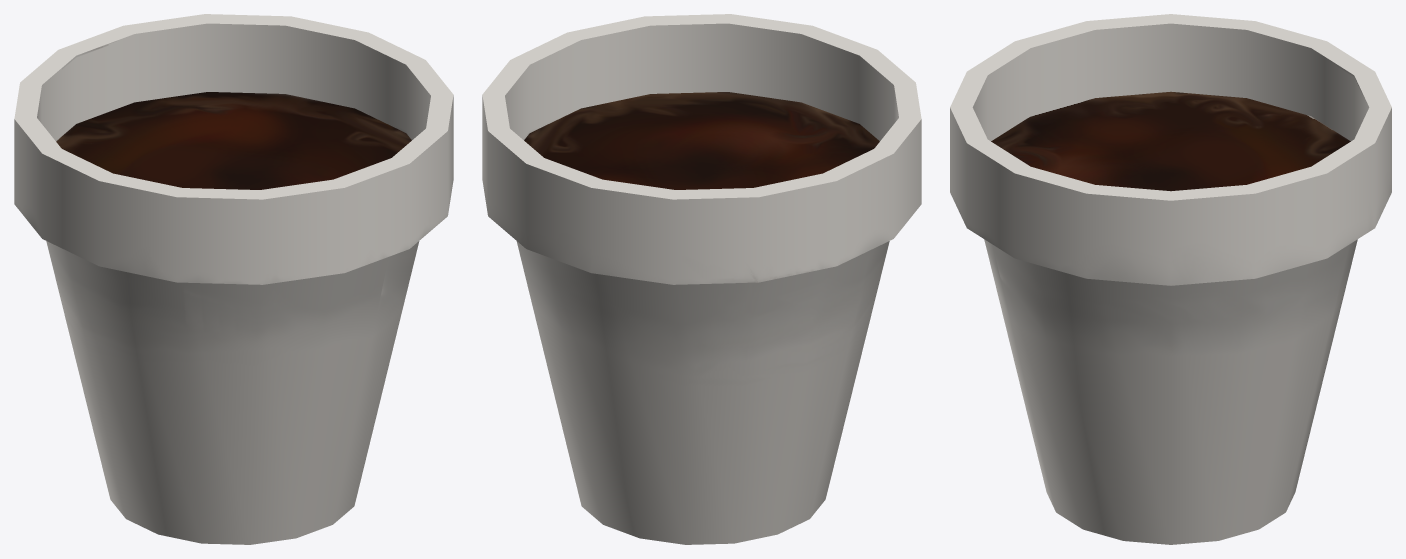
Rendered from copo cheio .fbx.
3 views of the same model, side by side, from view 1: azimuth 30°, elevation 25°; view 2: azimuth 150°, elevation 25°; view 3: azimuth 270°, elevation 25° (orthographic).
Parts seen in each view (by area): view 1: copinho cheio; view 2: copinho cheio; view 3: copinho cheio.
Boxes of the visible parts, box(x1,y1,x2,y2) form: copinho cheio: box(14, 14, 453, 544); copinho cheio: box(482, 14, 921, 544); copinho cheio: box(950, 14, 1391, 544).
Size of the model in its own units: 66.84 by 64.26 by 66.84.
